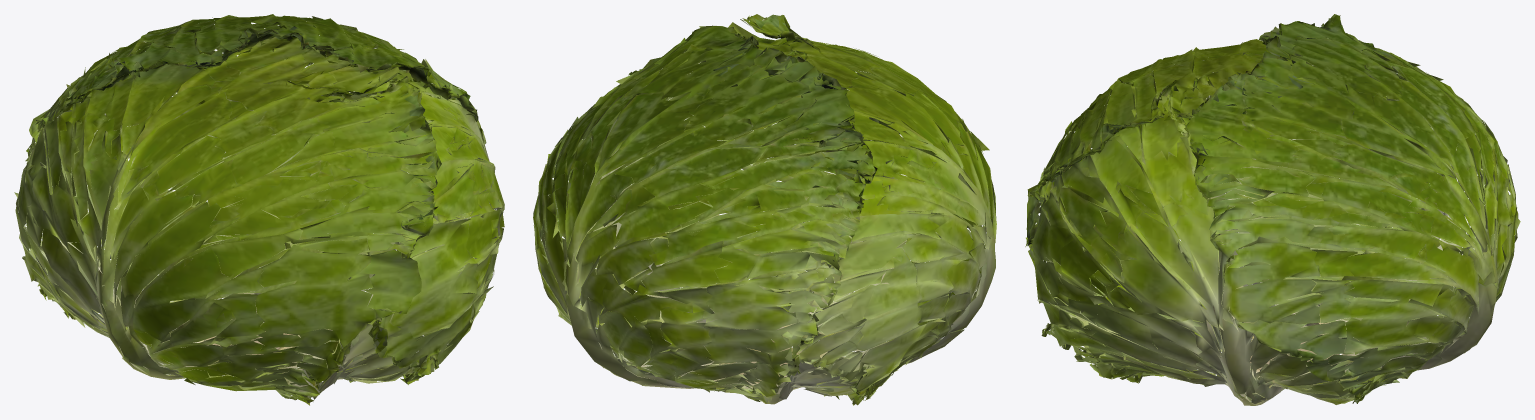
Rendered from cabbage.glb.
3 renders of one model, left to right at view 1: azimuth 30°, elevation 25°; view 2: azimuth 150°, elevation 25°; view 3: azimuth 270°, elevation 25°, orthographic. The views are drawn at different scales.
Parts seen in each view (by area): view 1: Object_0; view 2: Object_0; view 3: Object_0.
Boxes of the visible parts, x1,y1,x2,y2 form: Object_0: [14, 14, 504, 405]; Object_0: [533, 14, 996, 405]; Object_0: [1025, 14, 1520, 405].
Size of the model in its own units: 0.1711 by 0.1287 by 0.18.
Materials: 1 (1 with a texture image).
